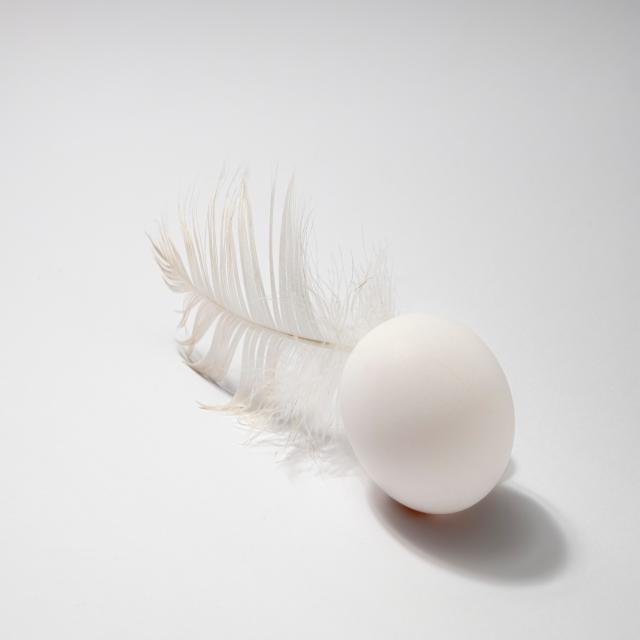egg: (324, 288, 548, 530)
